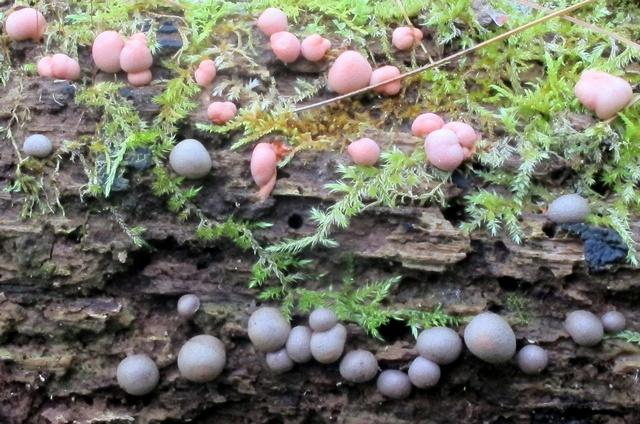poisonous_mushroom: (9, 6, 453, 125), (266, 313, 443, 400), (573, 68, 633, 120), (463, 310, 516, 363), (176, 333, 226, 382), (326, 49, 372, 94), (246, 305, 290, 351), (168, 137, 212, 179), (115, 353, 159, 395), (415, 325, 461, 364), (249, 141, 278, 202), (423, 128, 463, 171), (563, 308, 603, 346), (545, 192, 589, 224), (347, 136, 380, 166), (517, 343, 548, 374), (22, 133, 52, 157), (176, 292, 200, 319)
